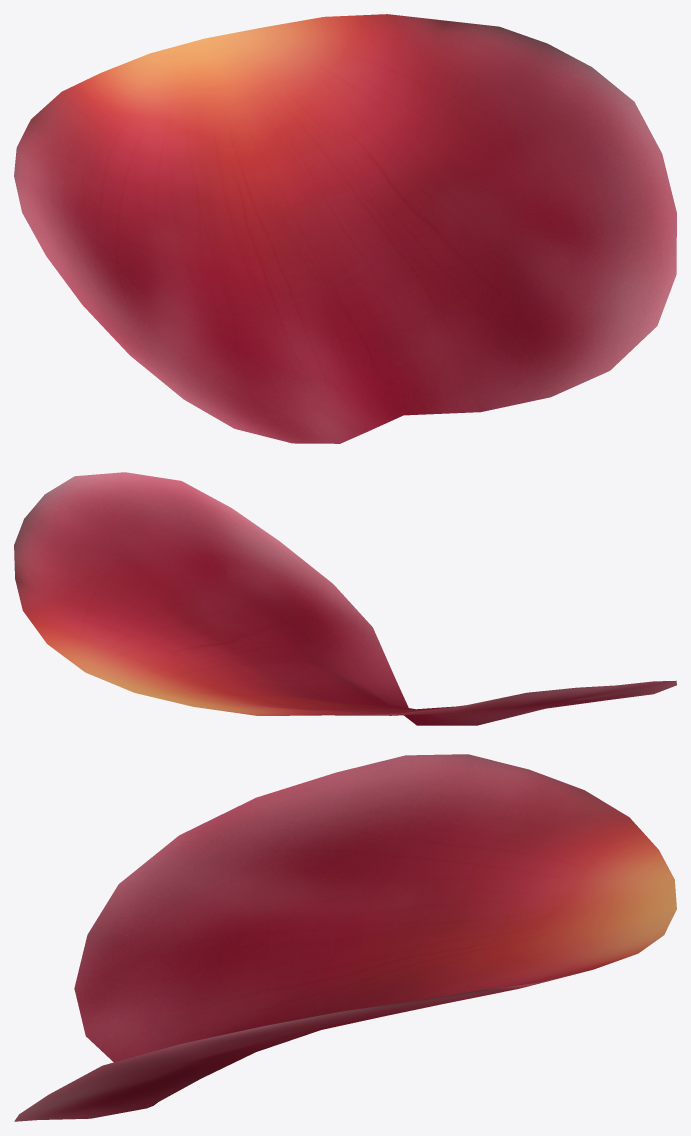
The model's file is flower.obj.
3 renders of one model, top to bottom at view 1: azimuth 30°, elevation 25°; view 2: azimuth 150°, elevation 25°; view 3: azimuth 270°, elevation 25°, orthographic. The views are drawn at different scales.
Parts seen in each view (by area): view 1: archmodels66_050_002_258.002; view 2: archmodels66_050_002_258.002; view 3: archmodels66_050_002_258.002.
Part boxes in pixels (x1=…): archmodels66_050_002_258.002: x1=14, y1=14, x2=676, y2=443; archmodels66_050_002_258.002: x1=14, y1=472, x2=676, y2=725; archmodels66_050_002_258.002: x1=14, y1=754, x2=676, y2=1121.
Size of the model in its own units: 1.95 by 0.7437 by 1.81.
1 material, 1 textured.
